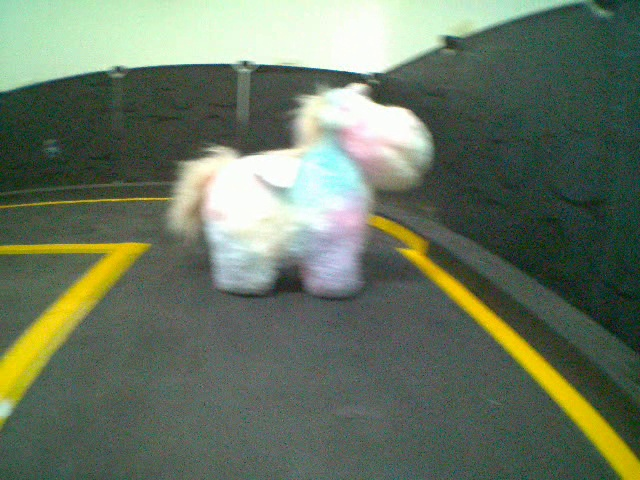unicorn: (164, 77, 436, 300)
